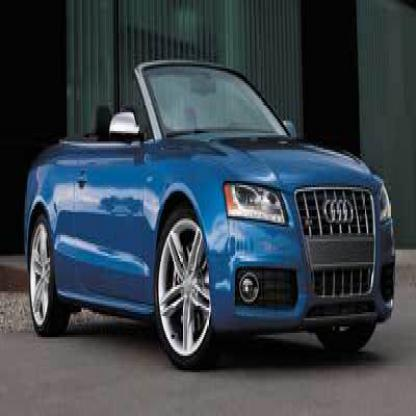Vehicle: (23, 62, 398, 376)
